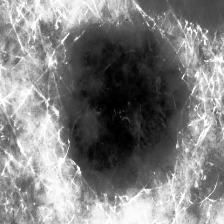Benign Marking or Mole: (67, 28, 189, 187)
